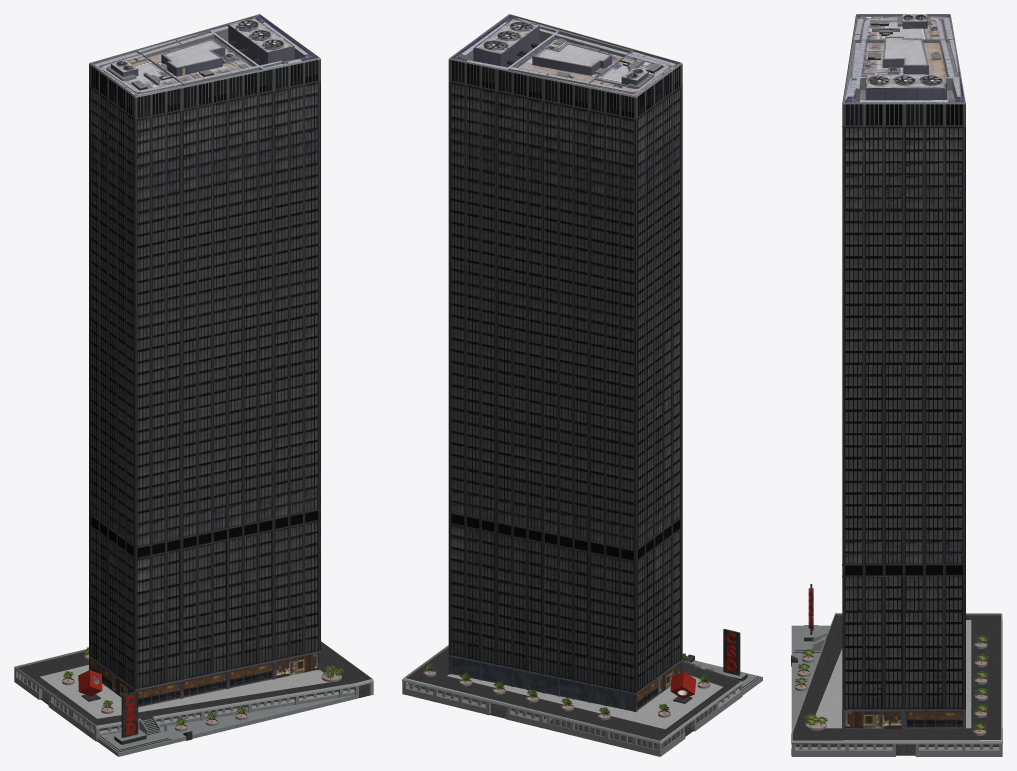
File: BlackStoneFab.fbx
3 views of the same model, side by side, from view 1: azimuth 30°, elevation 25°; view 2: azimuth 150°, elevation 25°; view 3: azimuth 270°, elevation 25° (orthographic). The views are drawn at different scales.
Visible parts, largest first — view 1: Cube.001, Edges, Cube, Cube.003, CSD; view 2: Cube.001, Edges, Cube, Cube.003, CSD, Planter, Palm; view 3: Cube.001, Edges, Cube, Cube.003, Planter, Palm, CSD.
Part boxes in pixels (box(x1,y1,x2,y2)): Cube.001: box(89, 14, 320, 707); Edges: box(89, 59, 320, 698); Cube: box(14, 643, 373, 756); Cube.003: box(14, 641, 373, 727); CSD: box(114, 691, 146, 744); Cube.001: box(449, 14, 682, 711); Edges: box(448, 56, 682, 712); Cube: box(402, 647, 762, 756); Cube.003: box(402, 645, 742, 742); CSD: box(716, 629, 747, 681); Planter: box(423, 660, 710, 720); Palm: box(424, 653, 709, 716); Cube.001: box(842, 14, 965, 728); Edges: box(842, 15, 965, 728); Cube: box(791, 615, 1002, 756); Cube.003: box(791, 613, 1002, 742); Planter: box(795, 641, 987, 735); Palm: box(794, 635, 988, 731); CSD: box(804, 584, 818, 641).
Bounding box in the file's own units: 8819 × 20829 × 6163.
